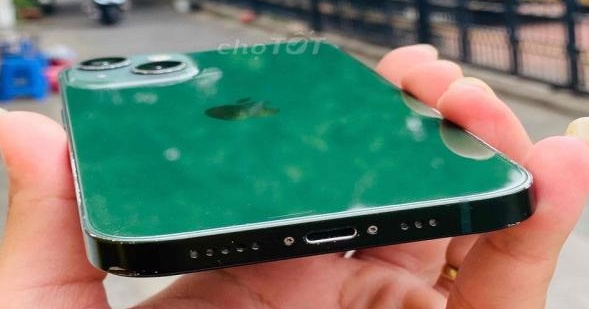scratch: (433, 106, 533, 212), (65, 144, 151, 252), (98, 258, 170, 279)
